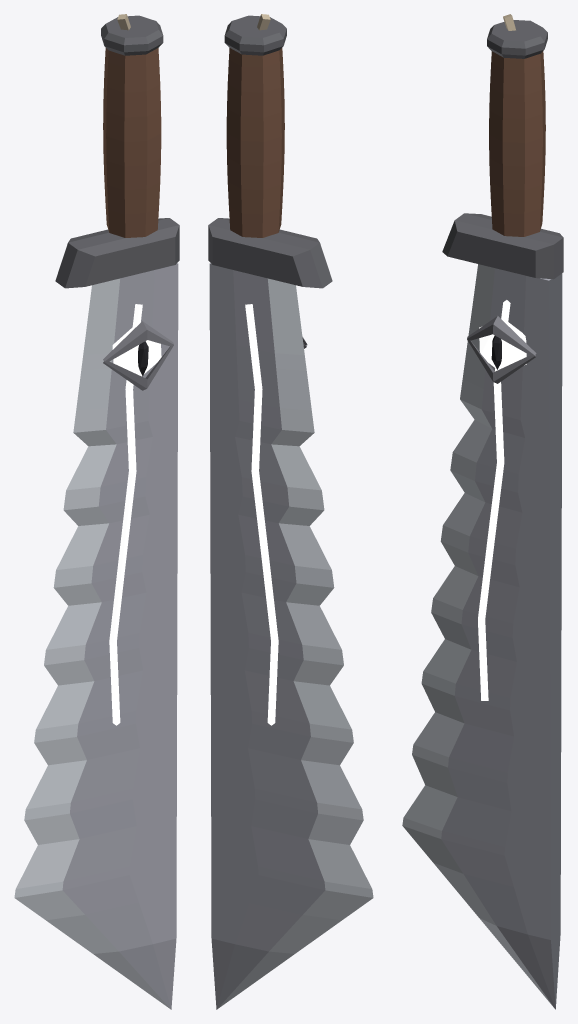
File: blade-notched.glb
The picture shows the model from 3 angles, left to right: view 1: azimuth 30°, elevation 25°; view 2: azimuth 150°, elevation 25°; view 3: azimuth 330°, elevation 25°; orthographic projection. The views are drawn at different scales.
Parts seen in each view (by area): view 1: blade-notched, pulse_vein, blink_eye; view 2: blade-notched, pulse_vein; view 3: blade-notched, pulse_vein, blink_eye.
Boxes of the visible parts, left/top/right/bottom form: blade-notched: left=14, top=15, right=179, bottom=1009; pulse_vein: left=109, top=304, right=142, bottom=725; blink_eye: left=103, top=321, right=173, bottom=390; blade-notched: left=208, top=15, right=373, bottom=1009; pulse_vein: left=245, top=304, right=278, bottom=725; blade-notched: left=402, top=20, right=563, bottom=1009; pulse_vein: left=478, top=300, right=510, bottom=700; blink_eye: left=467, top=316, right=536, bottom=383.
Size of the model in its own units: 0.1889 by 1.13 by 0.0743.
